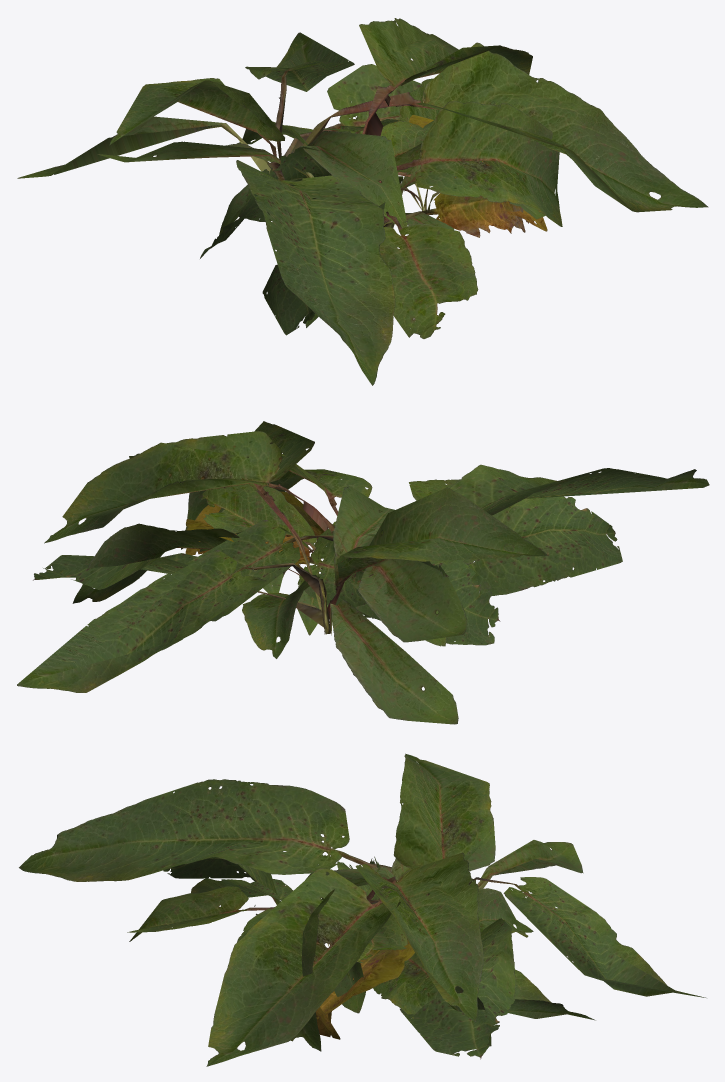
File: bardane.glb
The picture shows the model from 3 angles, top to bottom: view 1: azimuth 30°, elevation 25°; view 2: azimuth 150°, elevation 25°; view 3: azimuth 270°, elevation 25°; orthographic projection. The views are drawn at different scales.
Parts seen in each view (by area): view 1: weed_plant_02_a_LOD0, weed_plant_02_b_LOD0, weed_plant_02_c_LOD0, weed_plant_02_e_LOD0, weed_plant_02_d_LOD0; view 2: weed_plant_02_a_LOD0, weed_plant_02_b_LOD0, weed_plant_02_c_LOD0, weed_plant_02_d_LOD0, weed_plant_02_e_LOD0; view 3: weed_plant_02_a_LOD0, weed_plant_02_b_LOD0, weed_plant_02_c_LOD0, weed_plant_02_d_LOD0.
Part boxes in pixels (x1,y1,x2,y2): weed_plant_02_a_LOD0: (17, 32, 708, 385); weed_plant_02_b_LOD0: (97, 18, 532, 338); weed_plant_02_c_LOD0: (219, 101, 562, 327); weed_plant_02_e_LOD0: (238, 146, 545, 222); weed_plant_02_d_LOD0: (200, 78, 481, 263); weed_plant_02_a_LOD0: (17, 421, 709, 724); weed_plant_02_b_LOD0: (44, 431, 622, 642); weed_plant_02_c_LOD0: (181, 454, 566, 658); weed_plant_02_d_LOD0: (72, 508, 500, 645); weed_plant_02_e_LOD0: (253, 521, 448, 618); weed_plant_02_a_LOD0: (19, 753, 705, 1066); weed_plant_02_b_LOD0: (127, 818, 595, 1039); weed_plant_02_c_LOD0: (191, 878, 533, 1051); weed_plant_02_d_LOD0: (334, 861, 491, 1046).
Bounding box in the file's own units: 0.2193 × 0.0724 × 0.2903.
Materials: 1 (1 with a texture image).
